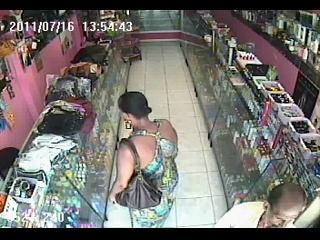Normal: (108, 92, 179, 226), (214, 182, 309, 229), (116, 138, 162, 210)
